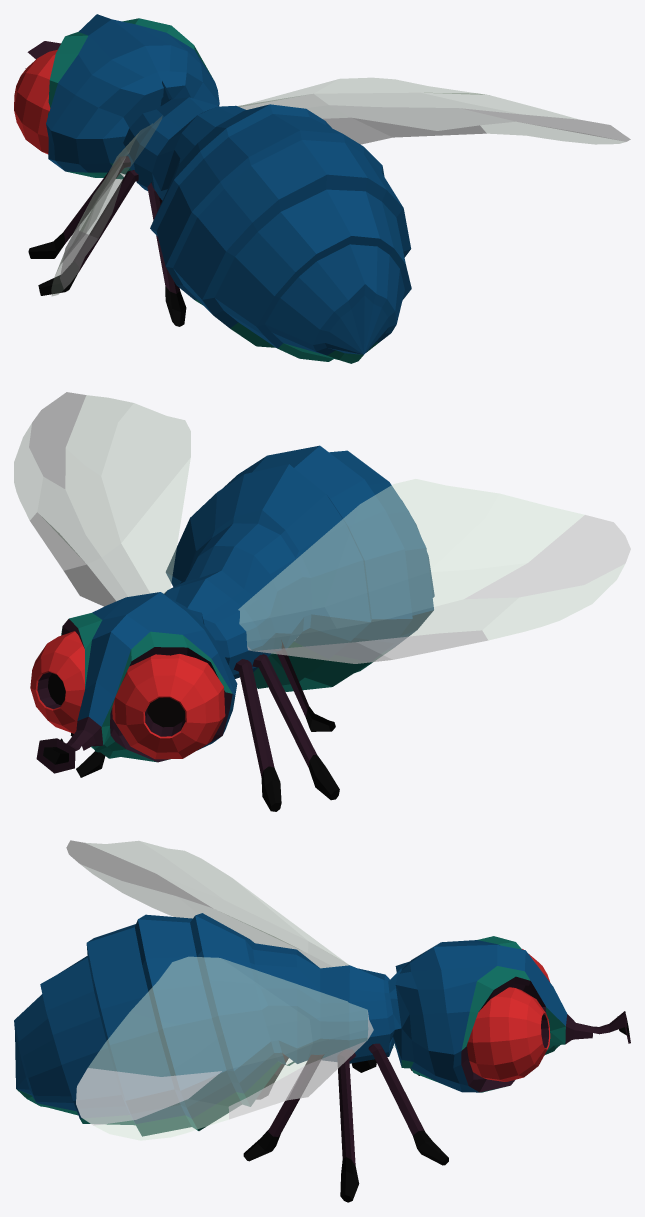
The model's file is fly.glb.
The picture shows the model from 3 angles, top to bottom: view 1: azimuth 30°, elevation 25°; view 2: azimuth 150°, elevation 25°; view 3: azimuth 270°, elevation 25°; orthographic projection. The views are drawn at different scales.
Visible parts, largest first — view 1: Sphere.001, BezierCurve_Mesh, BezierCurve.001_Mesh.001, Sphere.008, Sphere.006, Sphere.007, Sphere.005; view 2: Sphere.001, BezierCurve.001_Mesh.001, BezierCurve_Mesh, Sphere.008, Sphere.009, Sphere.007, Sphere.006, Sphere.005; view 3: Sphere.001, BezierCurve_Mesh, BezierCurve.001_Mesh.001, Sphere.009, Sphere.003, Sphere.000, Sphere.004.
Part boxes in pixels (bbox=[...]): Sphere.001: bbox=[25, 14, 411, 363]; BezierCurve_Mesh: bbox=[237, 78, 630, 144]; BezierCurve.001_Mesh.001: bbox=[51, 116, 162, 295]; Sphere.008: bbox=[14, 49, 57, 154]; Sphere.006: bbox=[38, 170, 138, 295]; Sphere.007: bbox=[28, 156, 130, 258]; Sphere.005: bbox=[147, 182, 186, 326]; Sphere.001: bbox=[36, 445, 434, 773]; BezierCurve.001_Mesh.001: bbox=[238, 479, 630, 663]; BezierCurve_Mesh: bbox=[14, 392, 190, 606]; Sphere.008: bbox=[112, 654, 225, 759]; Sphere.009: bbox=[30, 631, 84, 733]; Sphere.007: bbox=[233, 659, 281, 811]; Sphere.006: bbox=[252, 654, 339, 800]; Sphere.005: bbox=[275, 640, 335, 731]; Sphere.001: bbox=[14, 913, 630, 1136]; BezierCurve_Mesh: bbox=[76, 957, 373, 1140]; BezierCurve.001_Mesh.001: bbox=[66, 840, 349, 967]; Sphere.009: bbox=[467, 987, 550, 1081]; Sphere.003: bbox=[337, 1049, 359, 1202]; Sphere.000: bbox=[368, 1043, 448, 1165]; Sphere.004: bbox=[243, 1054, 324, 1161].
Bounding box in the file's own units: 11.85 × 4.95 × 11.63.
